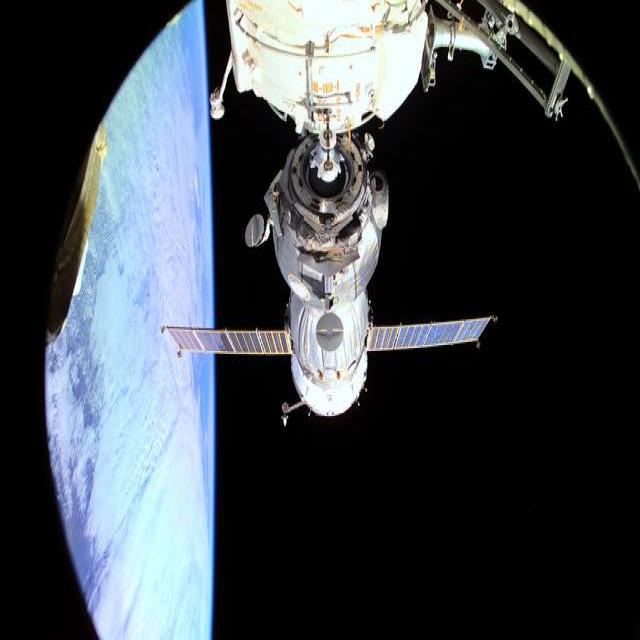medium_debris: (169, 134, 470, 421)
